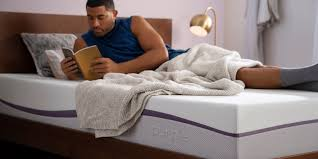bed-matress: (1, 58, 318, 159)
